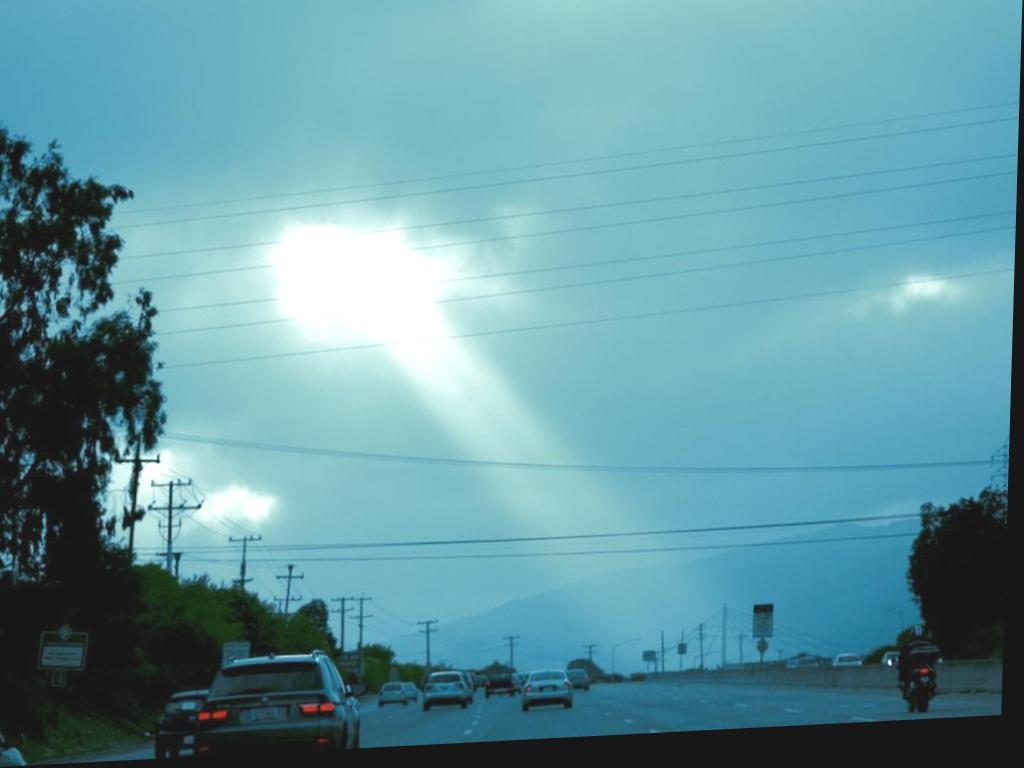License_Plate: (253, 705, 279, 721), (182, 737, 190, 745)
